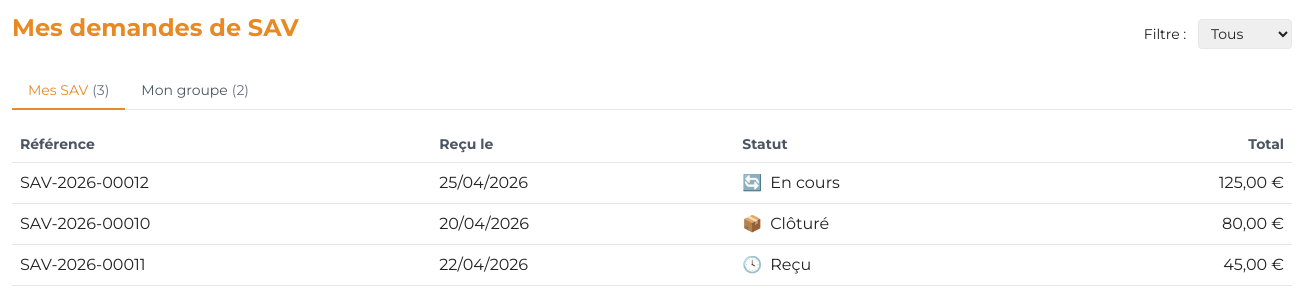
Test: MemberSavListView (Story 6.2 + Story 6.5) › S6.5 AC#2 (c) clic onglet « Mon groupe » → bascule visible des SAV groupe + colonne Adhérent
The width and height of the screenshot is (1304, 304).
Click the tab with test id "tab-group" at (195, 91), box [125,72,265,110]
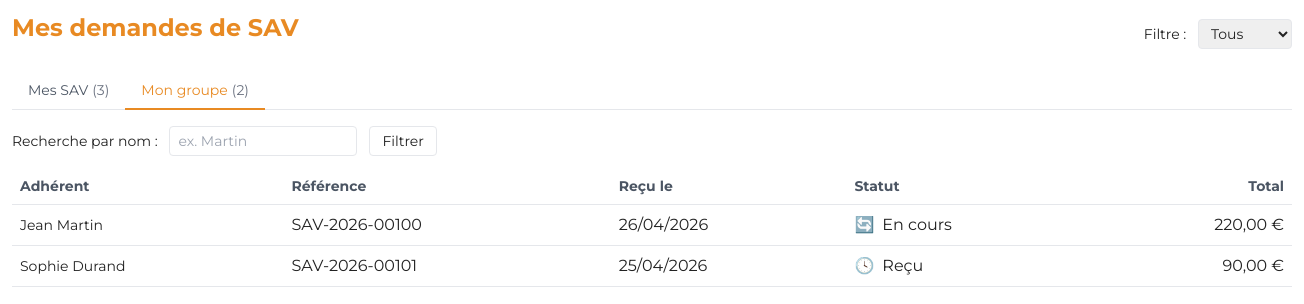
expect the number of rows with test id "member-sav-row" is 2: met, box [12,204,1292,246]; [12,246,1292,286]
expect the row with test id "member-sav-row" shows "Jean Martin": met, box [20,216,103,234]
expect the row with test id "member-sav-row" shows "Sophie Durand": met, box [20,257,126,275]
